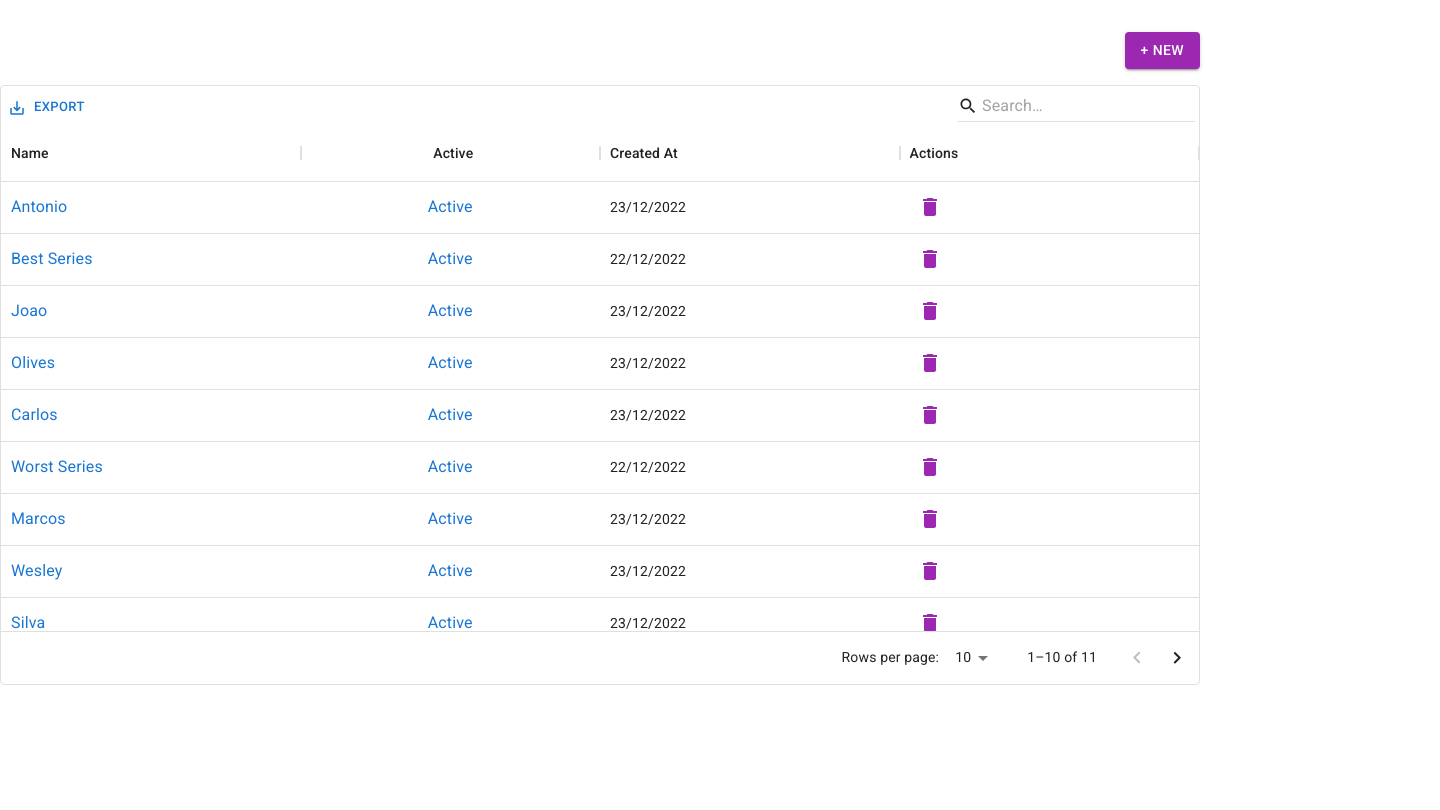
Test: List category › should handle delete category success
The image size is (1440, 810).
expect the text "Antonio" is shown: met, box [11,195,67,219]
Click the button with test id "delete-button" in the row of "Antonio" at (930, 207), box [910,187,950,227]
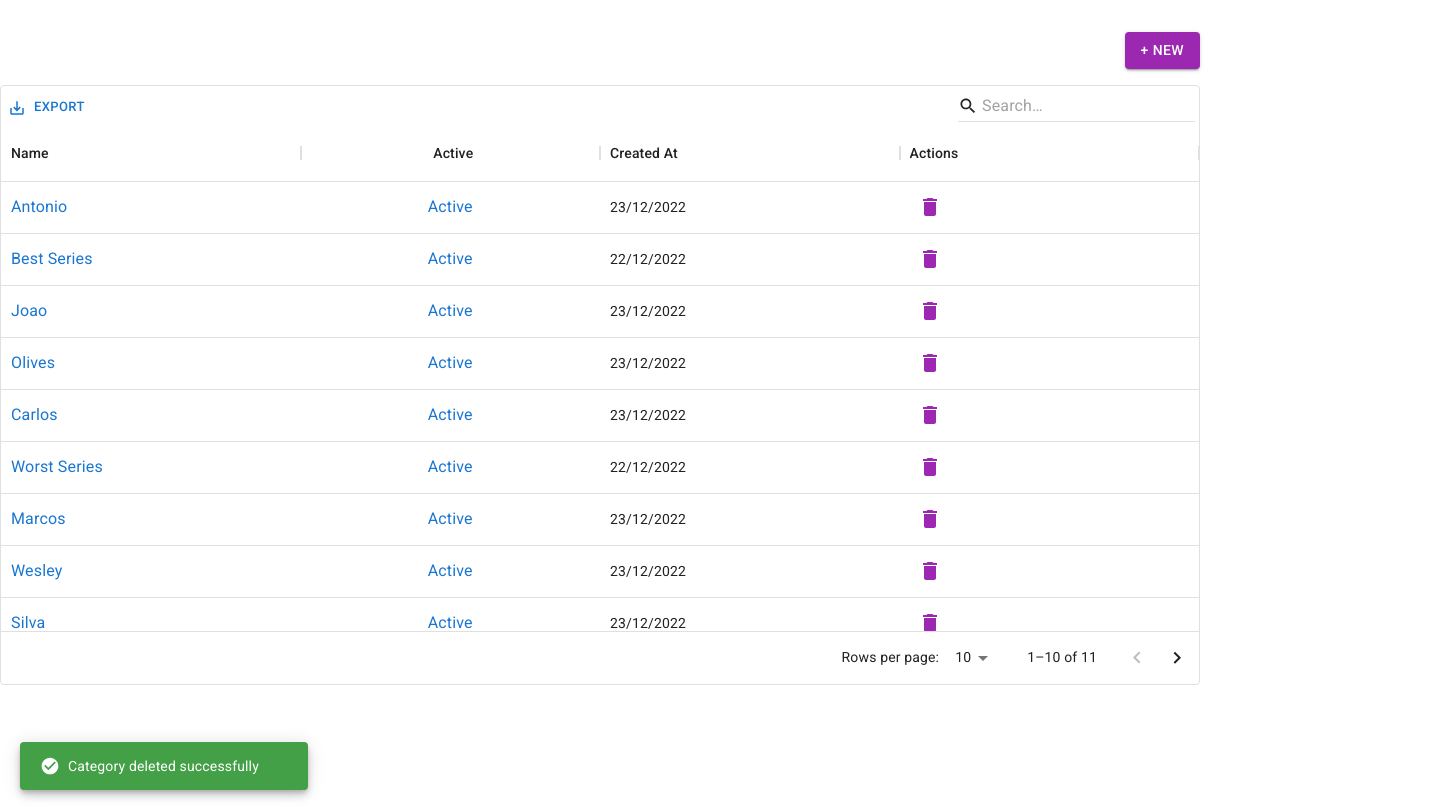
expect the text "Category deleted successfully" is shown: met, box [40,756,259,776]
